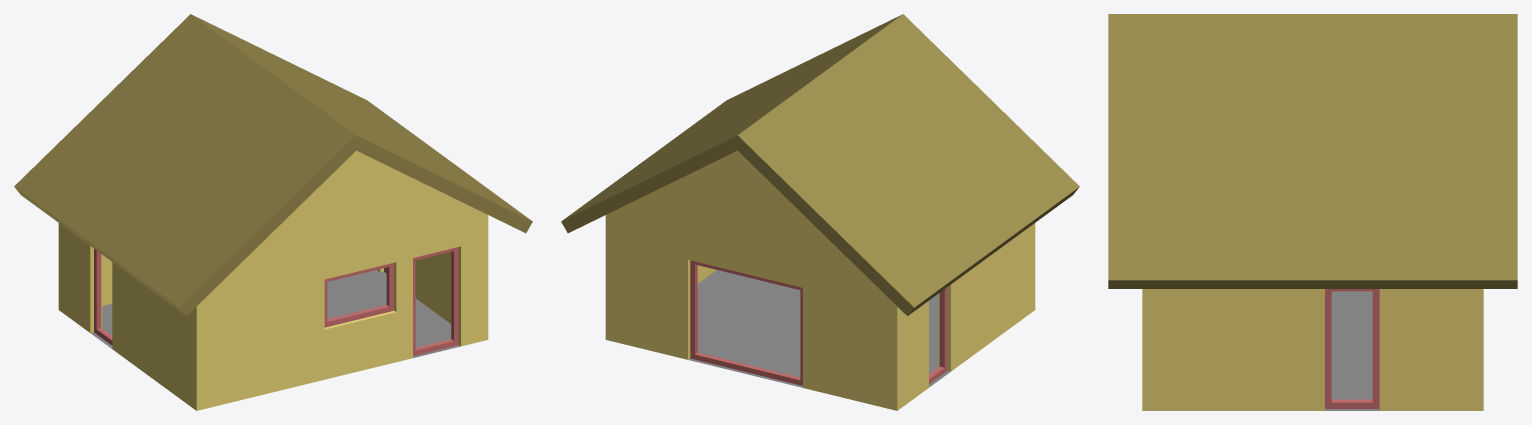
File: result.glb
3 views of the same model, side by side, from view 1: azimuth 30°, elevation 25°; view 2: azimuth 150°, elevation 25°; view 3: azimuth 270°, elevation 25° (orthographic). The views are drawn at different scales.
Visible parts, largest first — view 1: 15e02480-365e-4d73-82fc-0d5f13740526__undefined (×2), cfa97947-48b6-4bf9-843a-6334135a339e__undefined, ec173ef2-3f4c-4b77-8582-5bf2e5611a48__Plane_6, d515b884-3d2c-4061-9624-82a9eceddda6__Box, 96d52c77-6e8a-4f67-b9ab-9ac75a62ae41__Box_3, 84ae0446-0e04-4c4a-9588-35d531e0e77d__Box_12; view 2: 15e02480-365e-4d73-82fc-0d5f13740526__undefined (×2), cfa97947-48b6-4bf9-843a-6334135a339e__undefined, ec173ef2-3f4c-4b77-8582-5bf2e5611a48__Plane_6, 0709da31-fc2a-4abf-826b-57da92609906__Box_9, 84ae0446-0e04-4c4a-9588-35d531e0e77d__Box_12; view 3: 15e02480-365e-4d73-82fc-0d5f13740526__undefined, cfa97947-48b6-4bf9-843a-6334135a339e__undefined, ec173ef2-3f4c-4b77-8582-5bf2e5611a48__Plane_6, 4dbb13b4-3e56-4350-ba00-e118ea32775b__Box_15.
Part boxes in pixels (x1,y1,x2,y2): 15e02480-365e-4d73-82fc-0d5f13740526__undefined (×2): (14,14,532,315); cfa97947-48b6-4bf9-843a-6334135a339e__undefined: (58,150,488,410); ec173ef2-3f4c-4b77-8582-5bf2e5611a48__Plane_6: (90,270,460,357); d515b884-3d2c-4061-9624-82a9eceddda6__Box: (413,247,458,355); 96d52c77-6e8a-4f67-b9ab-9ac75a62ae41__Box_3: (324,263,394,327); 84ae0446-0e04-4c4a-9588-35d531e0e77d__Box_12: (94,249,112,345); 15e02480-365e-4d73-82fc-0d5f13740526__undefined (×2): (561,14,1079,315); cfa97947-48b6-4bf9-843a-6334135a339e__undefined: (605,150,1035,410); ec173ef2-3f4c-4b77-8582-5bf2e5611a48__Plane_6: (688,270,950,387); 0709da31-fc2a-4abf-826b-57da92609906__Box_9: (690,260,802,385); 84ae0446-0e04-4c4a-9588-35d531e0e77d__Box_12: (929,287,947,383); 15e02480-365e-4d73-82fc-0d5f13740526__undefined: (1108,14,1517,288); cfa97947-48b6-4bf9-843a-6334135a339e__undefined: (1142,289,1483,410); ec173ef2-3f4c-4b77-8582-5bf2e5611a48__Plane_6: (1325,291,1379,410); 4dbb13b4-3e56-4350-ba00-e118ea32775b__Box_15: (1325,289,1379,408).
Size of the model in its own units: 739 by 500 by 600.
